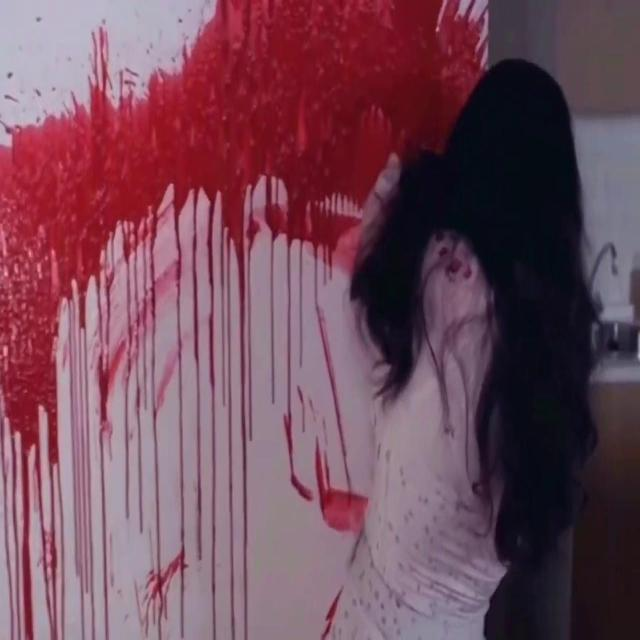flood: (1, 4, 487, 428)
